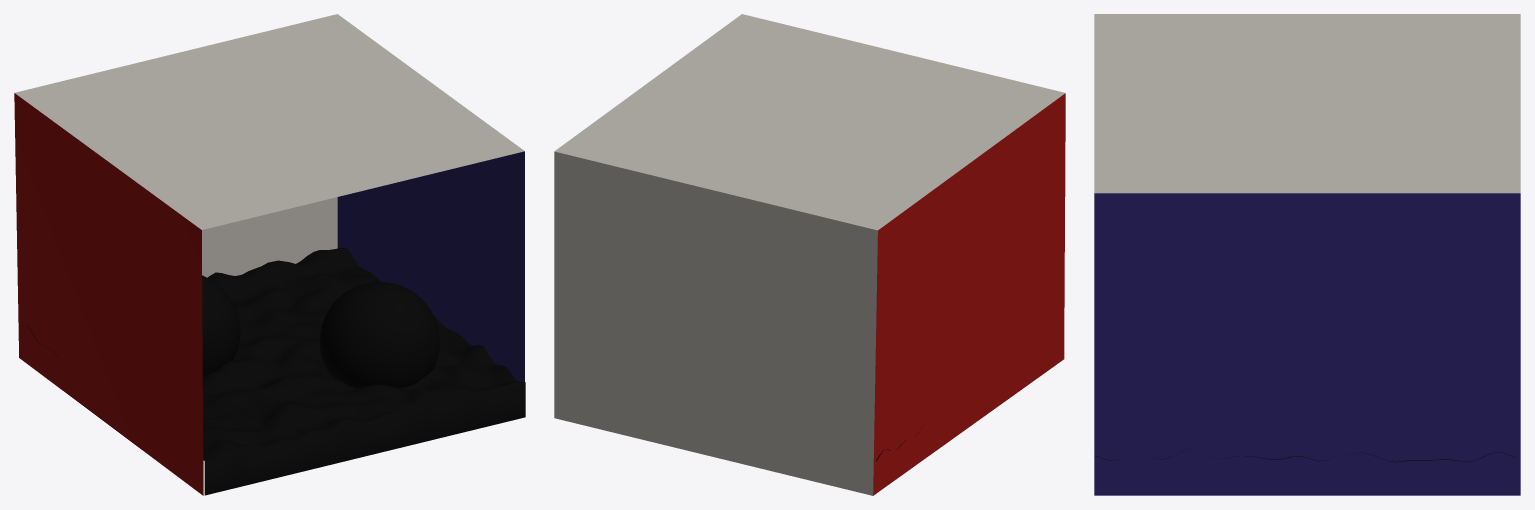
The model's file is CornellBox-Water.obj.
3 renders of one model, left to right at view 1: azimuth 30°, elevation 25°; view 2: azimuth 150°, elevation 25°; view 3: azimuth 270°, elevation 25°, orthographic. The views are drawn at different scales.
Visible parts, largest first — view 1: CornellBox-Water; view 2: CornellBox-Water; view 3: CornellBox-Water.
Boxes of the visible parts, x1,y1,x2,y2 form: CornellBox-Water: (14,14,525,495); CornellBox-Water: (554,14,1065,495); CornellBox-Water: (1094,14,1520,495).
Size of the model in its own units: 2.02 by 1.59 by 2.03.
